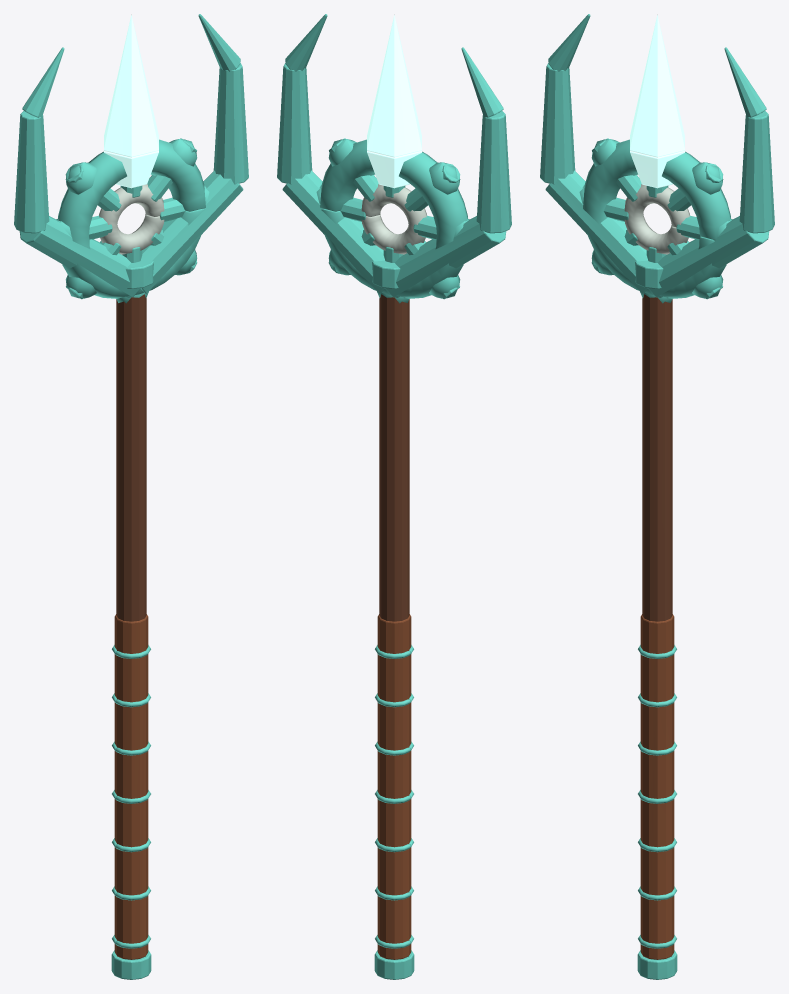
File: item_046.glb
3 views of the same model, side by side, from view 1: azimuth 30°, elevation 25°; view 2: azimuth 150°, elevation 25°; view 3: azimuth 330°, elevation 25° (orthographic).
Parts seen in each view (by area): view 1: Item_046_ford_trident; view 2: Item_046_ford_trident; view 3: Item_046_ford_trident.
Boxes of the visible parts, x1,y1,x2,y2 form: Item_046_ford_trident: (14, 14, 248, 979); Item_046_ford_trident: (277, 14, 511, 979); Item_046_ford_trident: (540, 14, 774, 979).
Size of the model in its own units: 0.5777 by 2.3 by 0.1202.
